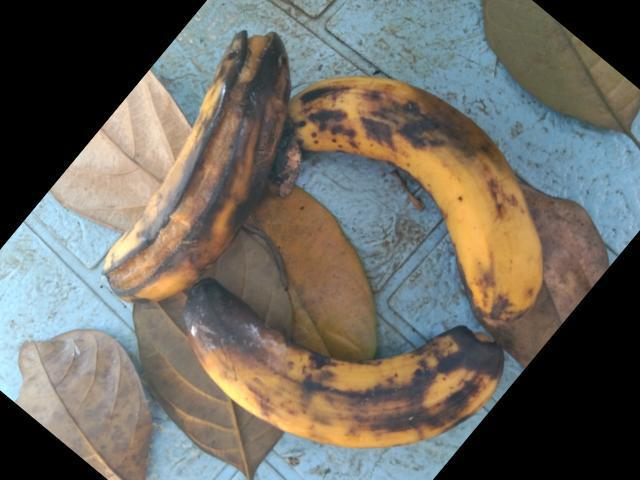overripe: (282, 58, 545, 306)
rotten: (58, 22, 295, 315), (178, 277, 496, 447)
